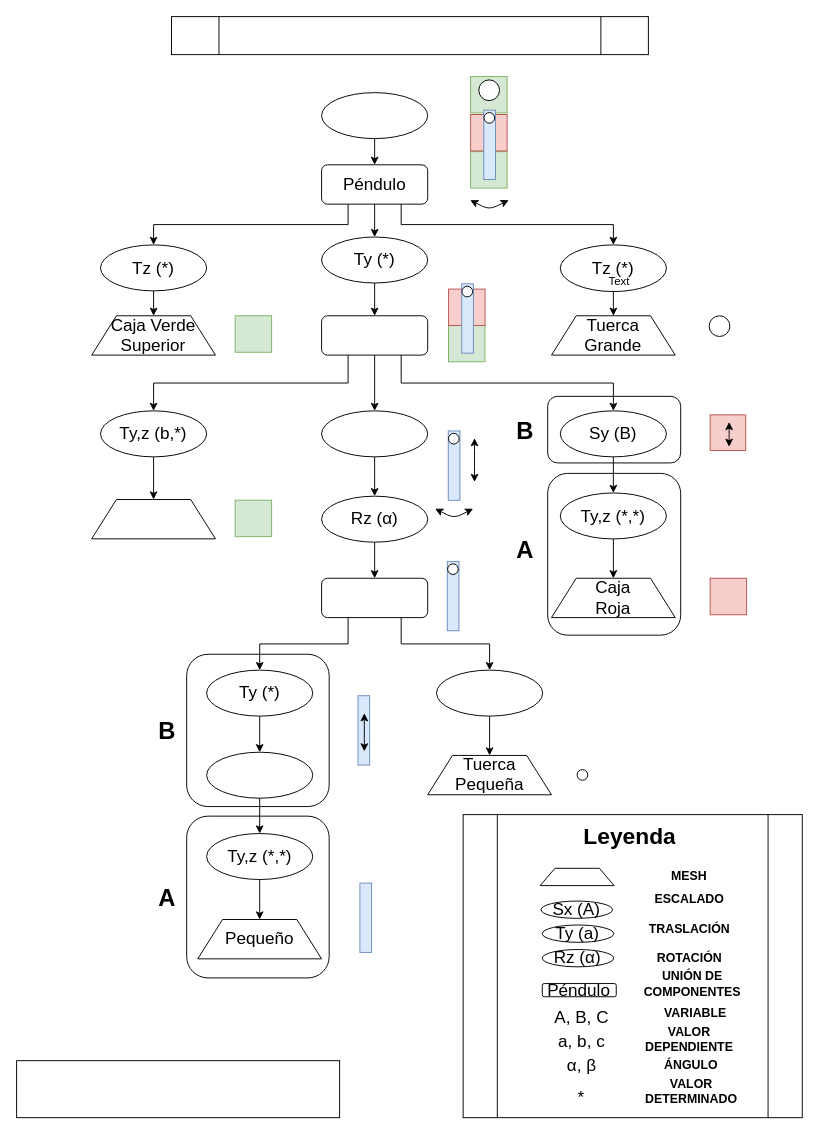
Image size: 819x1134. Some labels were removed from this diagram. The shapes that lost their labels are listed below. From the top down, each one's centre as x and y in pixels, then its label:
At [409,35]: "MODELO JERÁRQUICO".
At [374,115]: "Rz ( β )".
At [374,335]: "Unión Piezas".
At [374,433]: "Ty,z (a·C,*)".
At [153,519]: "Caja Verde Inferior".
At [374,597]: "Péndulo Pequeño".
At [489,692]: "Tz (* )".
At [259,774]: "Sy(A)".
At [576,876]: "Caja".
At [178,1089]: "ORDEN DE LAS TRANSFORMACIONES Escalado -> Rotación (Z,Y, X) -> Traslación".
